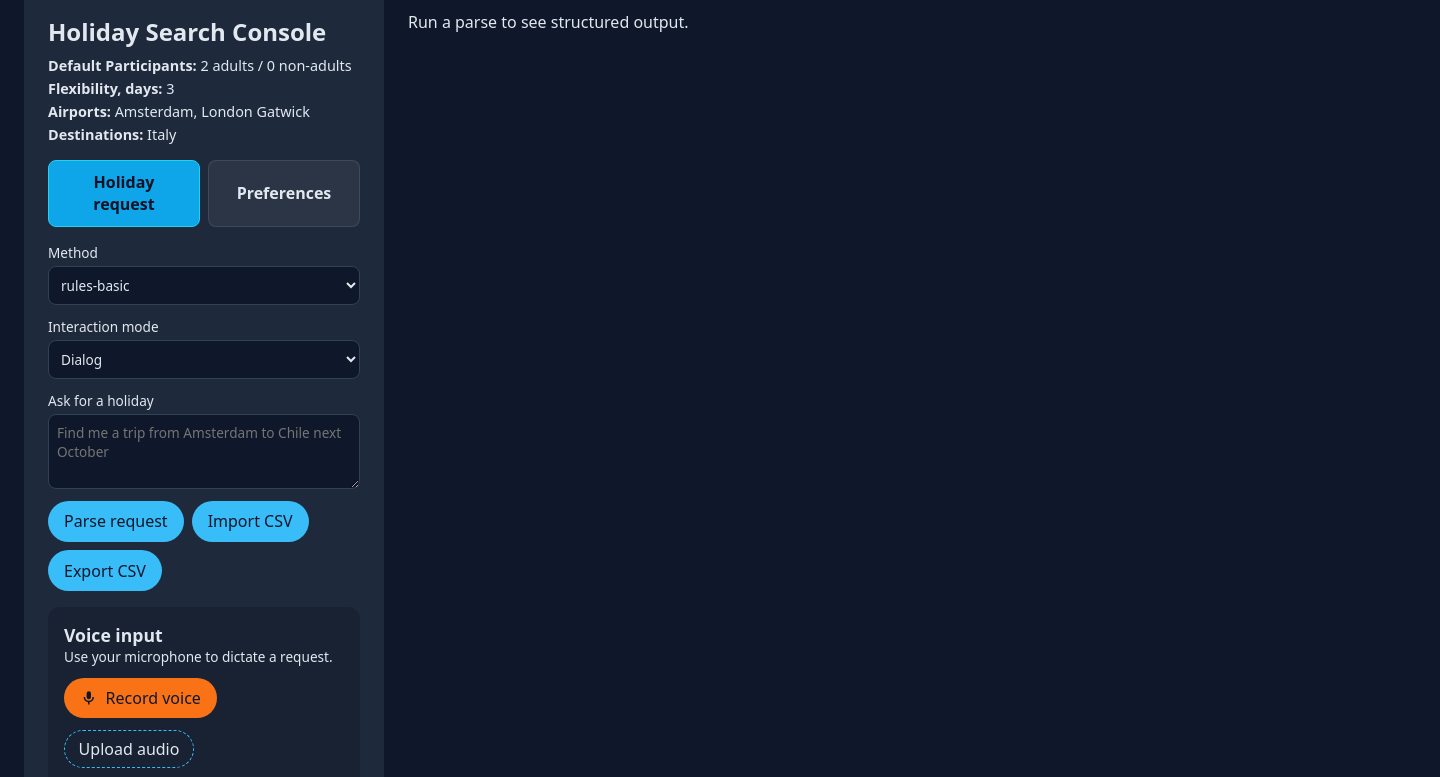
Test case: Holiday search console › resets the results history when the reset button is clicked
Expected: the element with test id "fixtures-loaded" is shown, [48,56,360,144]
Type "Find a trip" into the text box with test id "query-input".
click(204, 451); type("Find a trip")  # box [48,414,360,489]
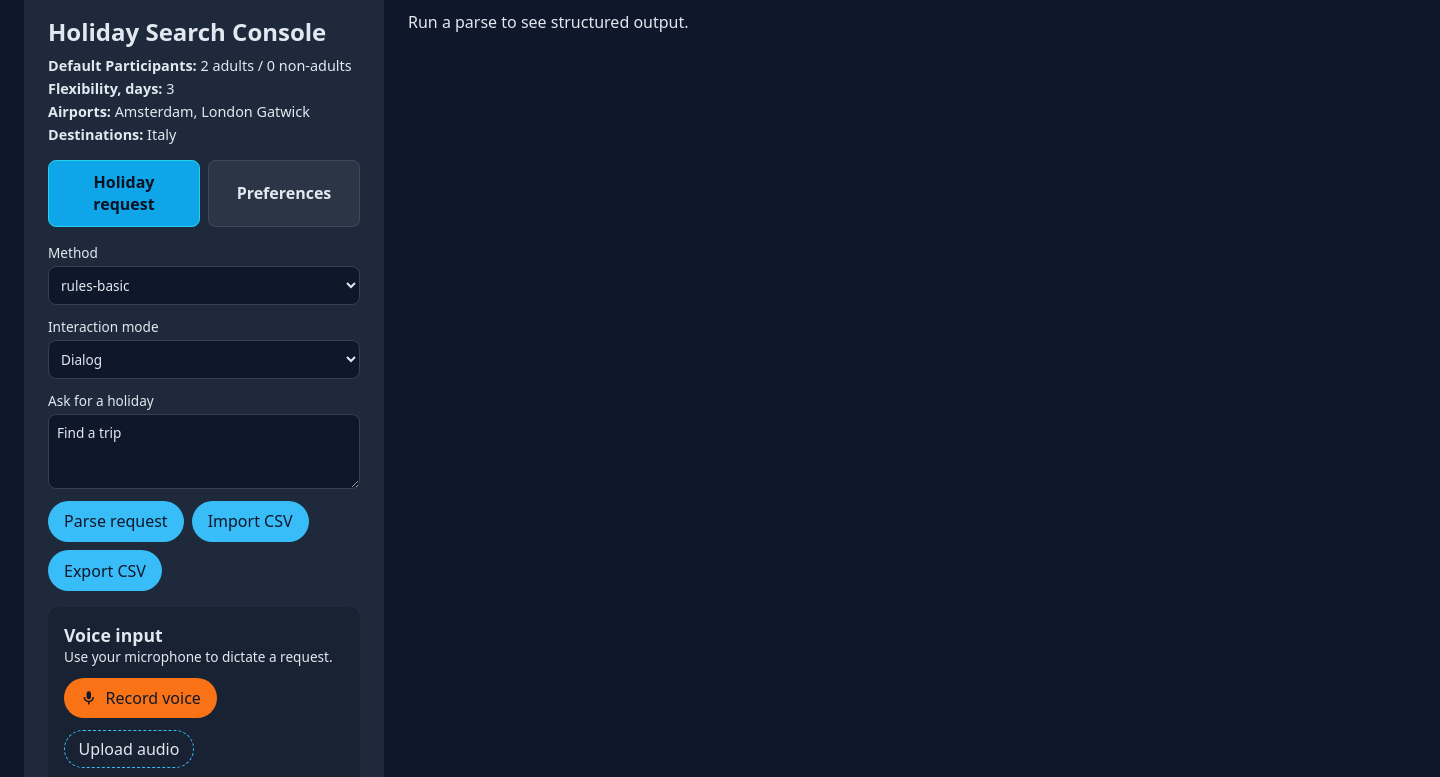
Submit the form with test id "parse-form", box [48,243,360,591]
(page scrolled)
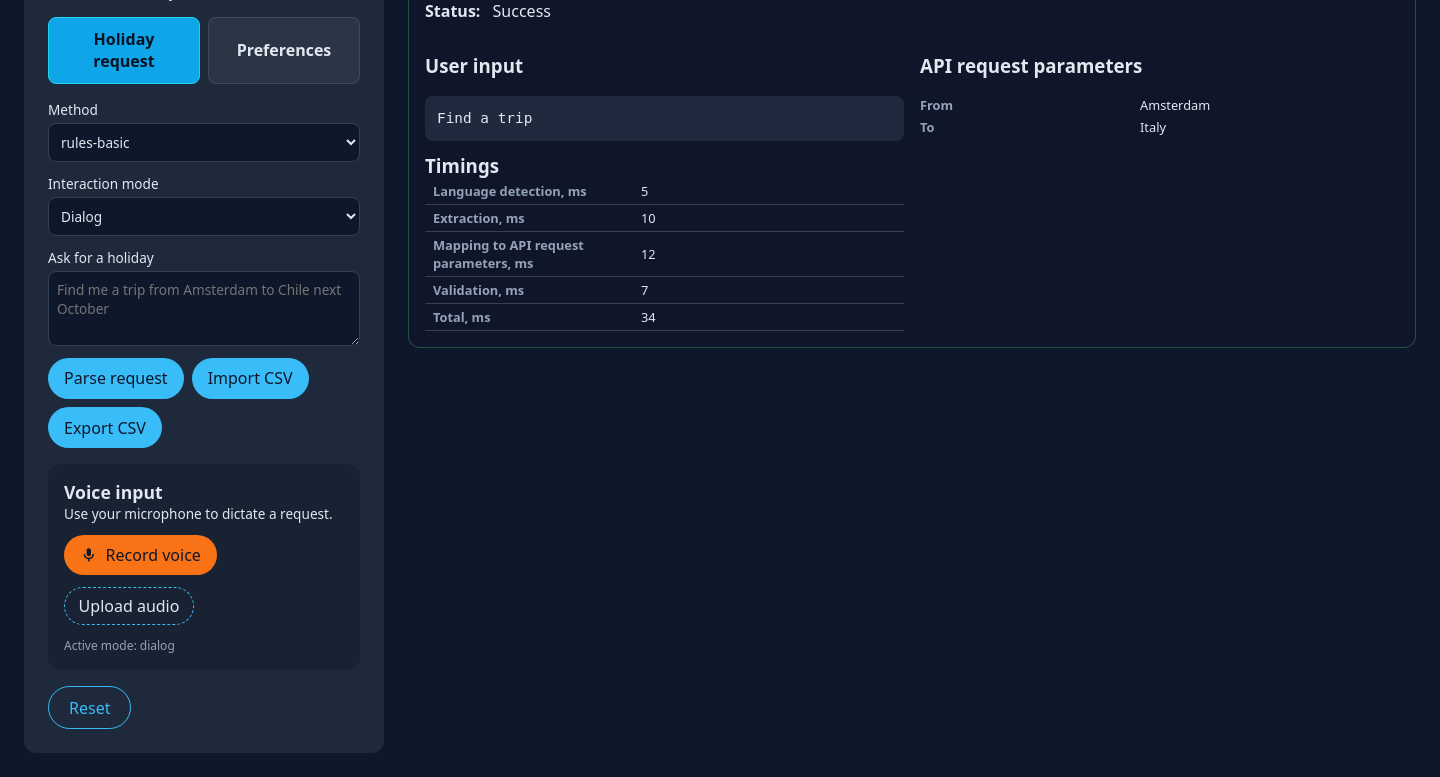
Expected: the button with test id "reset-button" is enabled
Click the button with test id "reset-button".
click(90, 708)  # box [48,686,132,729]
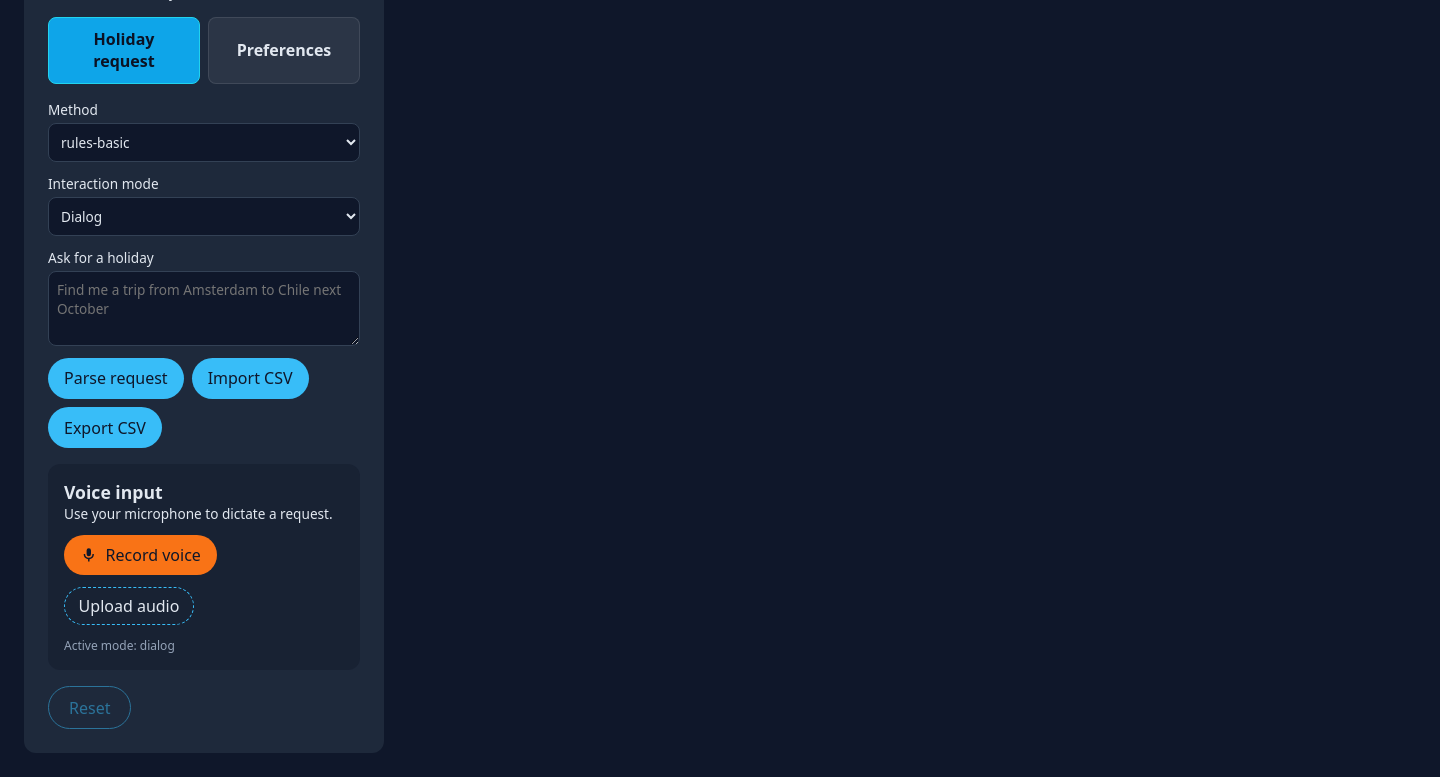
Expected: the button with test id "reset-button" is disabled, [48,686,132,729]
